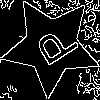P: (26, 21, 81, 74)
